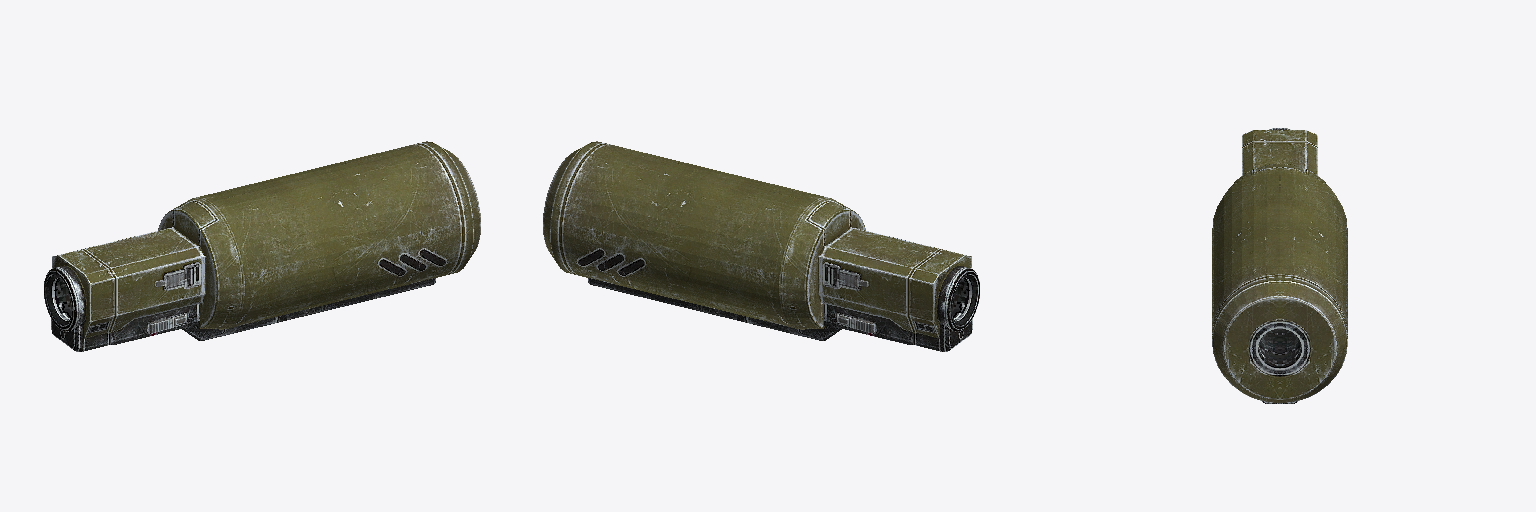
The picture shows the model from 3 angles: view 1: azimuth 30°, elevation 25°; view 2: azimuth 150°, elevation 25°; view 3: azimuth 270°, elevation 25°; orthographic projection.
Visible parts, largest first — view 1: unsc_barrel_silencer; view 2: unsc_barrel_silencer; view 3: unsc_barrel_silencer.
Part boxes in pixels (x1,y1,x2,y2): unsc_barrel_silencer: (44, 141, 480, 351); unsc_barrel_silencer: (543, 141, 979, 351); unsc_barrel_silencer: (1212, 128, 1347, 403).
Bounding box in the file's own units: 0.1364 × 0.043 × 0.0406.
Materials: 1 (1 with a texture image).